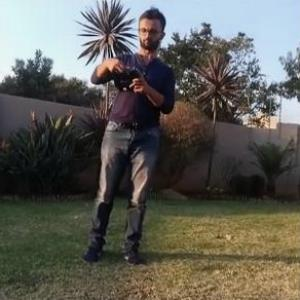follow: (78, 2, 181, 270)
